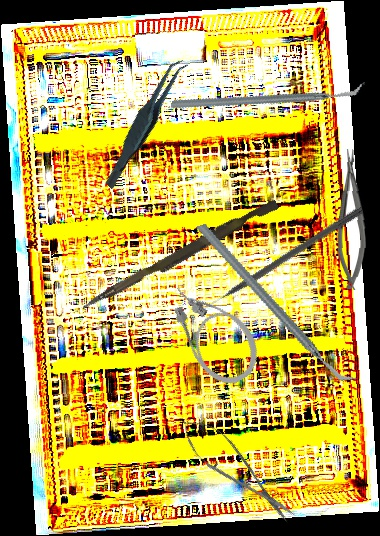Cannula: (160, 267, 269, 395)
Chopper: (193, 193, 359, 413), (169, 22, 366, 169)
Micro Scissor: (171, 408, 304, 532)
Needle Holder: (335, 149, 369, 290)
Pusher: (80, 194, 280, 318), (198, 204, 365, 314)
Tissue Forceps: (81, 56, 210, 190)
